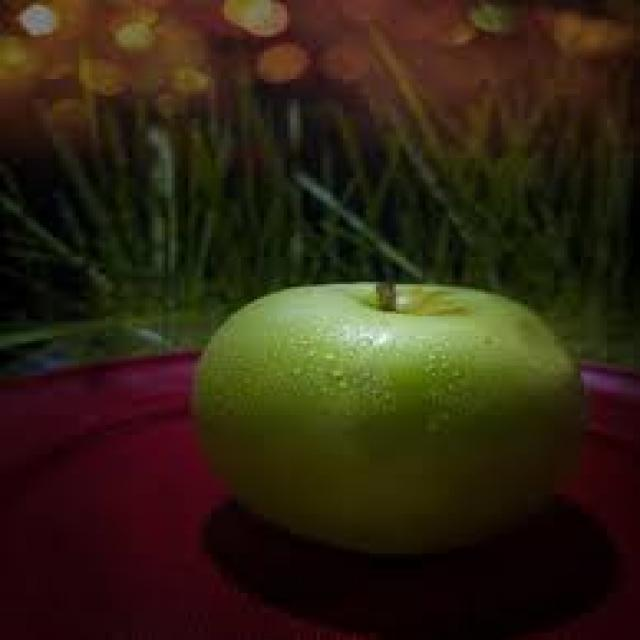Fresh Apple: (187, 272, 580, 556)
